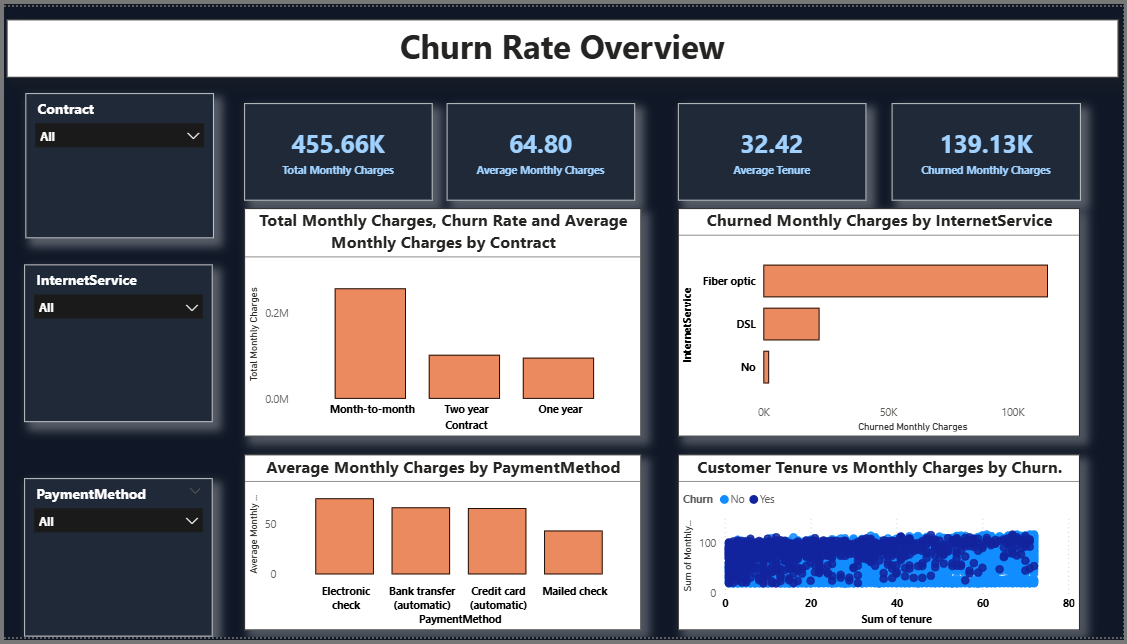

Layout of this report page (visuals, bound fields, positions):
{"tool":"powerbi","page":{"name":"Revenue Analysis.","canvas":[1280,720],"ordinal":1},"visuals":[{"type":"textbox","box":[4.3,14.5,1270.2,66.5],"z":0},{"type":"card","fields":{"Values":["Customers.Total Monthly Charges"]},"box":[275.7,110.3,214.8,111.4],"z":1000},{"type":"card","fields":{"Values":["Customers.Average Monthly Charges"]},"box":[506.6,110.3,214.8,111.4],"z":2000},{"type":"card","fields":{"Values":["Customers.Average Tenure"]},"box":[771.9,110.3,214.8,111.4],"z":3000},{"type":"card","fields":{"Values":["Customers.Churned Monthly Charges"]},"box":[1015.4,110.3,216,111.4],"z":4000},{"type":"clusteredColumnChart","fields":{"Category":["Customers.Contract"],"Y":["Customers.Total Monthly Charges"]},"box":[275.7,229.7,453.7,260.8],"z":5000},{"type":"clusteredBarChart","fields":{"Category":["Customers.InternetService"],"Y":["Customers.Churned Monthly Charges"]},"box":[771.9,229.7,459.5,260.8],"z":6000},{"type":"clusteredColumnChart","fields":{"Category":["Customers.PaymentMethod"],"Y":["Customers.Average Monthly Charges"]},"box":[275.7,511.2,453.7,201],"z":7000},{"type":"scatterChart","title":"Customer Tenure vs Monthly Charges by Churn.","fields":{"Series":["Customers.Churn"],"X":["Sum(Customers.tenure)"],"Y":["Sum(Customers.MonthlyCharges)"],"Category":["Customers.Customer ID"]},"box":[771.9,511.2,459.5,201],"z":8000},{"type":"slicer","fields":{"Values":["Customers.Contract"]},"box":[26,98.9,214.8,165.3],"z":9000},{"type":"slicer","fields":{"Values":["Customers.InternetService"]},"box":[24.1,294.1,214.8,180.3],"z":10000},{"type":"slicer","fields":{"Values":["Customers.PaymentMethod"]},"box":[24.7,539,214.8,181],"z":11000}]}

Visuals, with their boxes in screenshot pixels (x1, y1, x2, y2), scaled from the page's 1280x720 canvas onto the 1127x644 screenshot:
textbox: <bbox>4, 13, 1122, 72</bbox>
card - Customers.Total Monthly Charges: <bbox>243, 99, 432, 198</bbox>
card - Customers.Average Monthly Charges: <bbox>446, 99, 635, 198</bbox>
card - Customers.Average Tenure: <bbox>680, 99, 869, 198</bbox>
card - Customers.Churned Monthly Charges: <bbox>894, 99, 1084, 198</bbox>
clusteredColumnChart - Customers.Contract x Customers.Total Monthly Charges: <bbox>243, 205, 642, 439</bbox>
clusteredBarChart - Customers.InternetService x Customers.Churned Monthly Charges: <bbox>680, 205, 1084, 439</bbox>
clusteredColumnChart - Customers.PaymentMethod x Customers.Average Monthly Charges: <bbox>243, 457, 642, 637</bbox>
"Customer Tenure vs Monthly Charges by Churn." scatterChart: <bbox>680, 457, 1084, 637</bbox>
slicer - Customers.Contract: <bbox>23, 88, 212, 236</bbox>
slicer - Customers.InternetService: <bbox>21, 263, 210, 424</bbox>
slicer - Customers.PaymentMethod: <bbox>22, 482, 211, 643</bbox>
